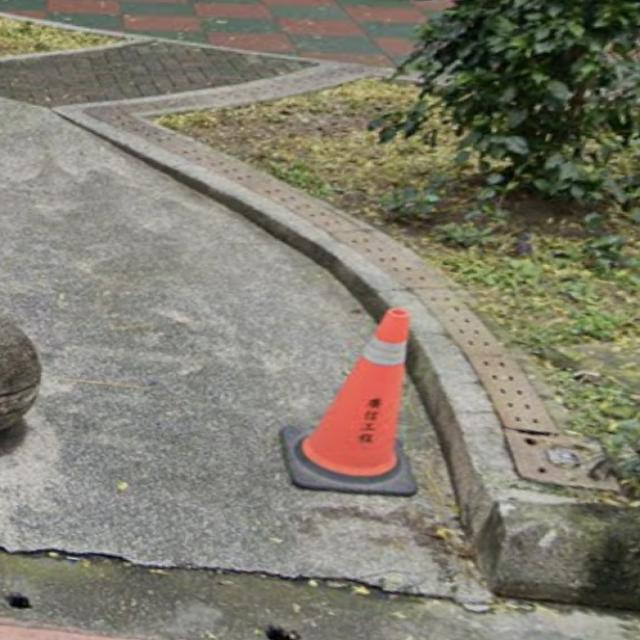cone: (310, 291, 421, 502)
